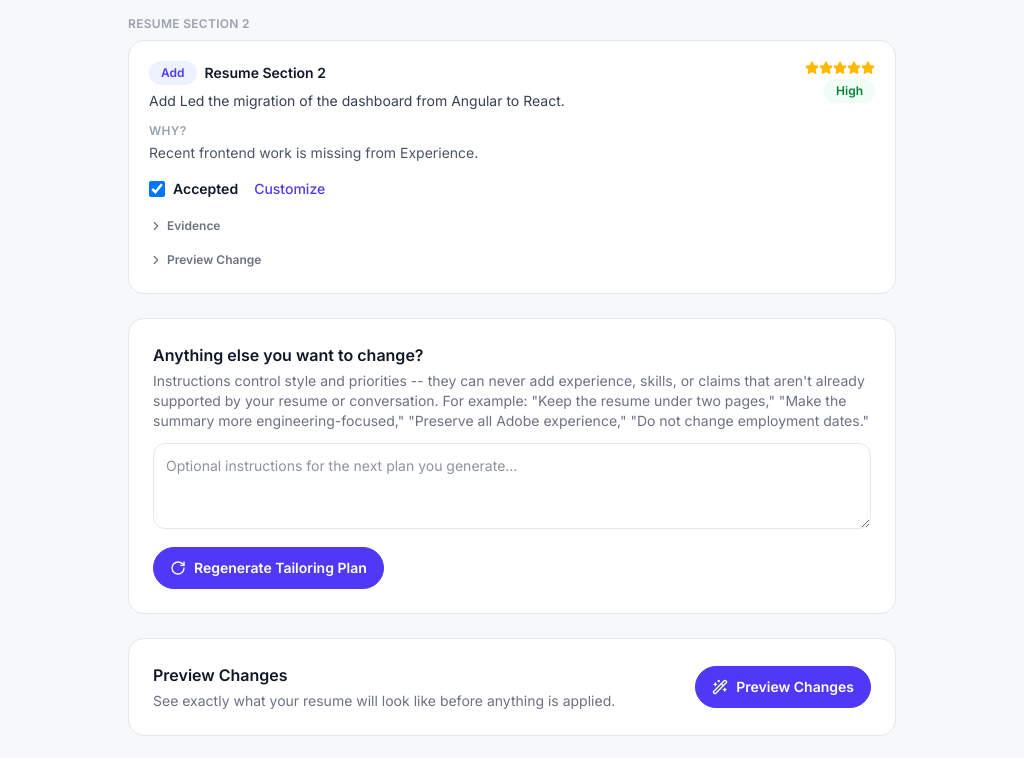
Test: TailoredResumePage: preview-first workflow (Preview Changes then Apply Now) › marks an applied suggestion as "Applied", greys it out, and locks its checkbox
This screenshot has width=1024, height=758.
(page scrolled)
Click the button "Preview Changes" at (783, 687), box x1=695 y1=666 x2=871 y2=708
(page scrolled)
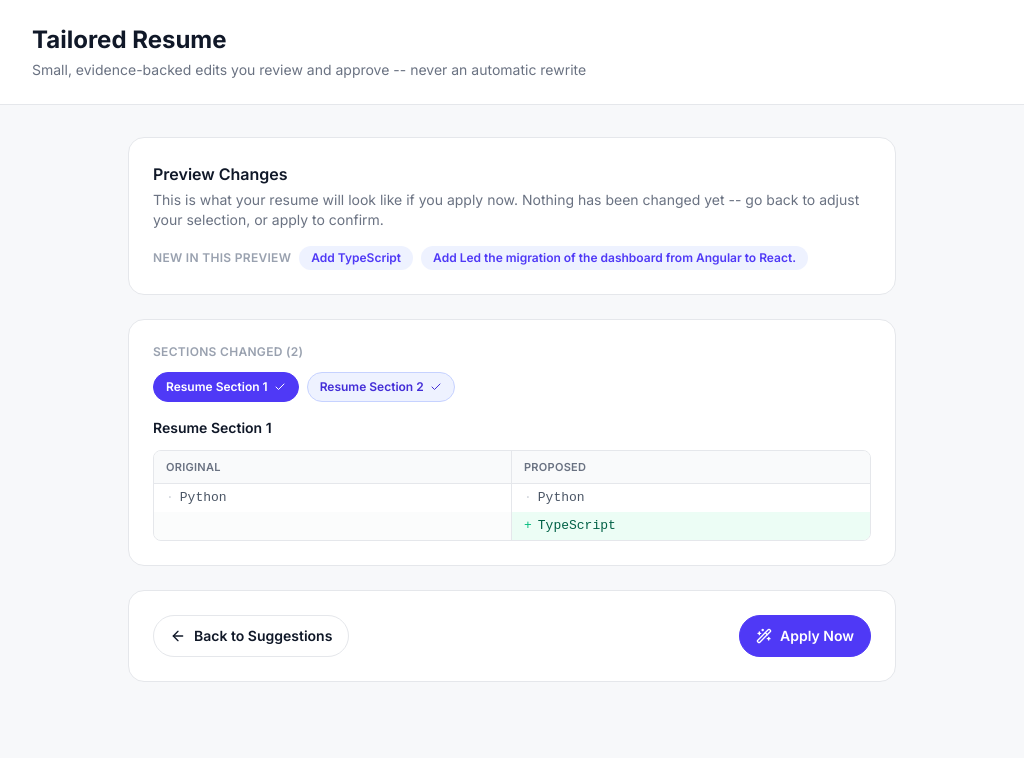
Now the button "Apply Now" is shown
Click the button "Apply Now" at (805, 636), box x1=739 y1=615 x2=871 y2=657
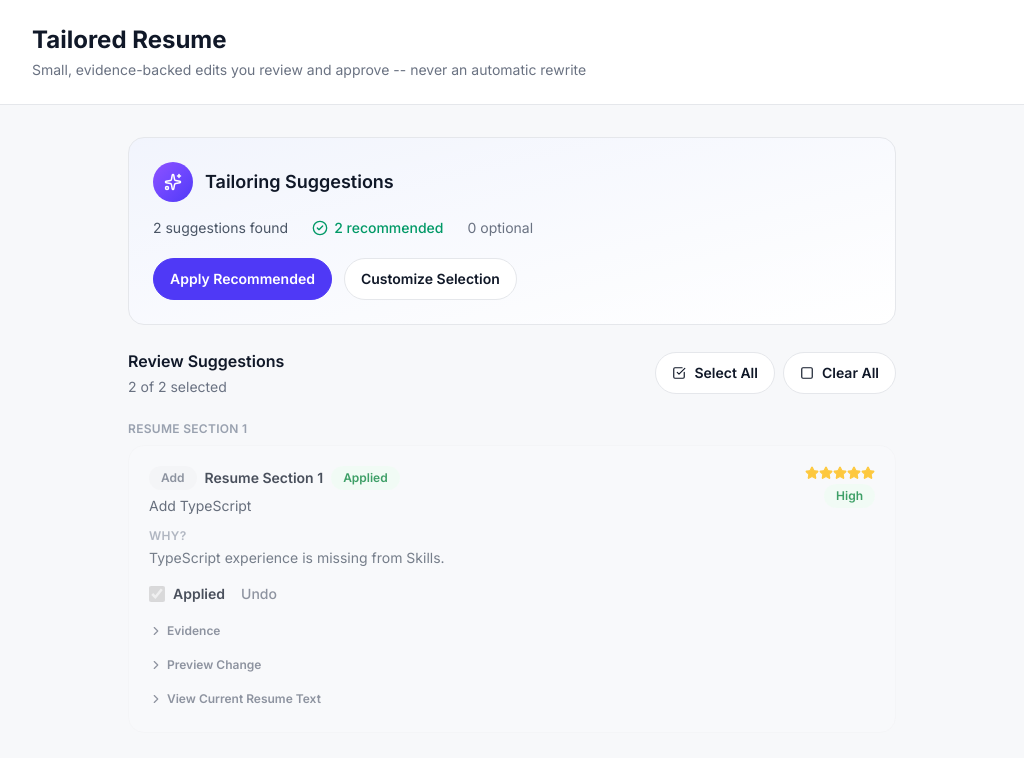
Now the 1st text "Applied" is shown, box x1=331 y1=466 x2=400 y2=490
Now the checkbox named "accept suggestion: add typescript" is disabled, box x1=149 y1=586 x2=165 y2=602
Now the checkbox named "accept suggestion: add typescript" is checked, box x1=149 y1=586 x2=165 y2=602
